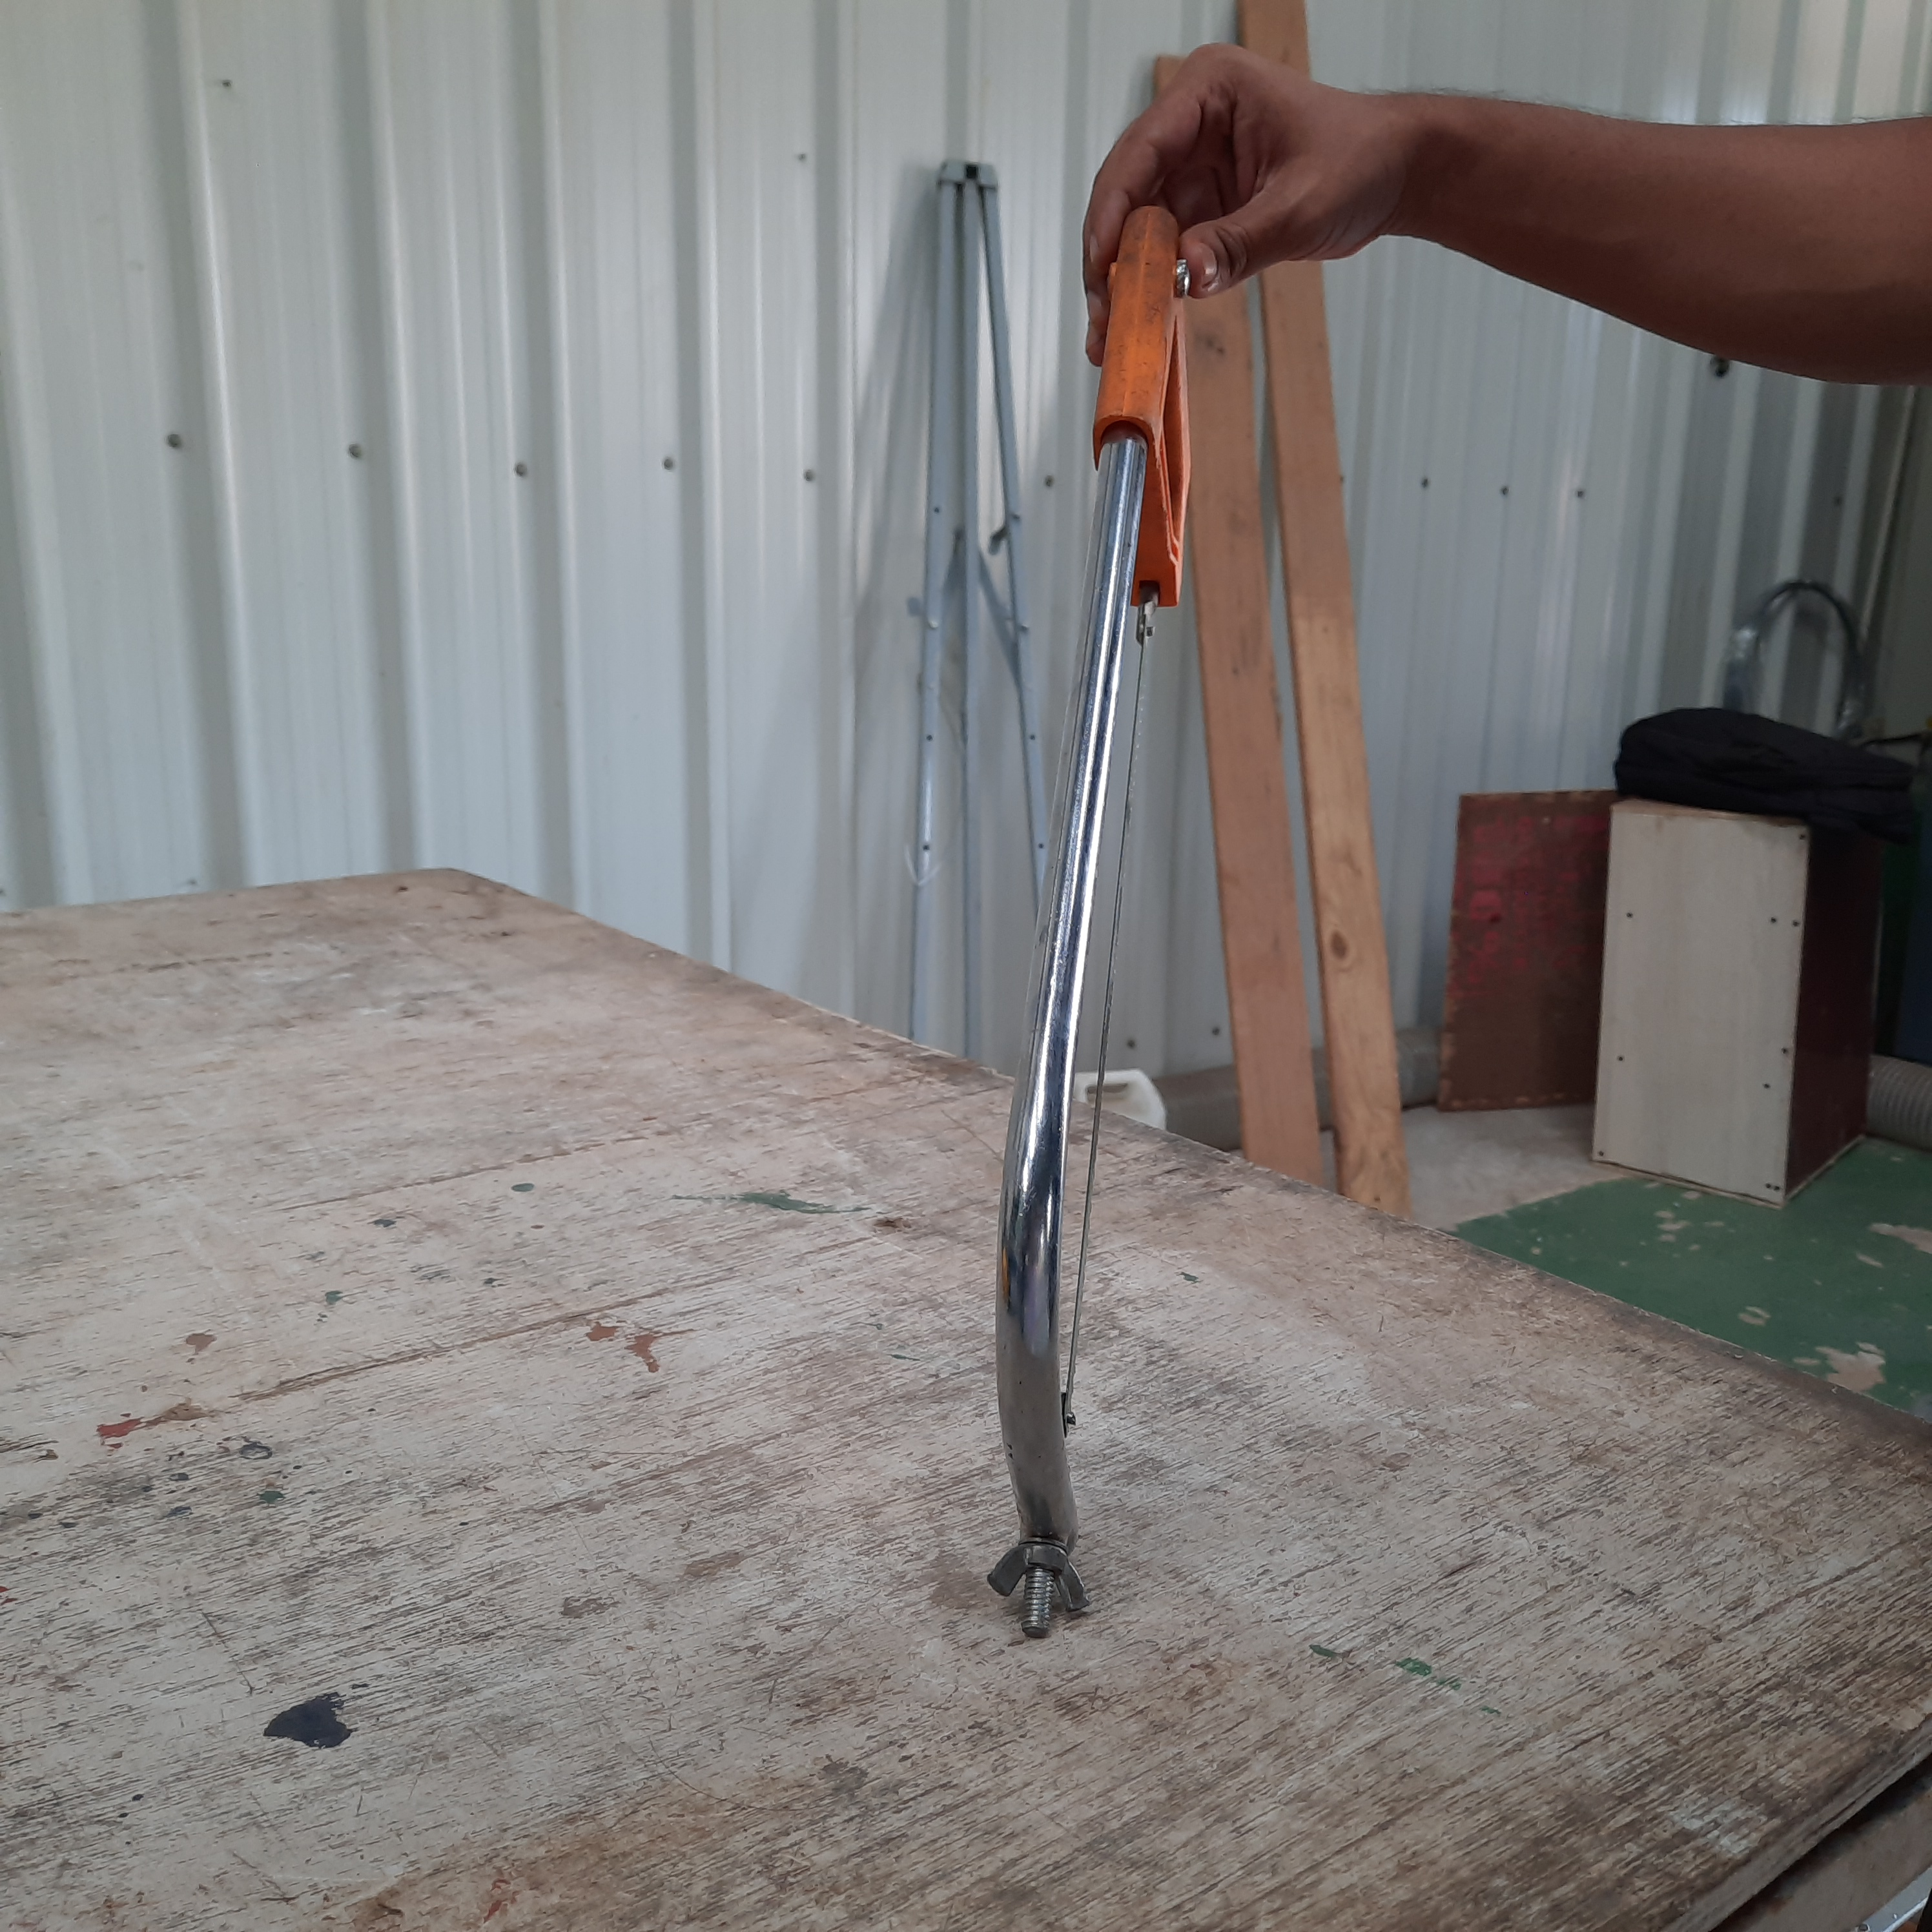Hexaframe: (973, 173, 1307, 1729)
